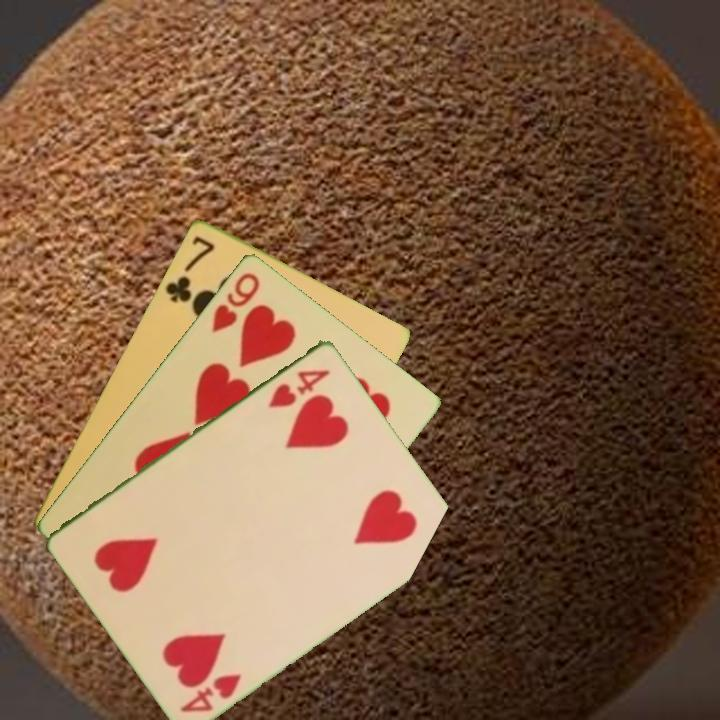4h: (264, 365, 333, 411), (177, 669, 245, 715)
7c: (161, 232, 218, 305)
9h: (207, 268, 263, 335)
